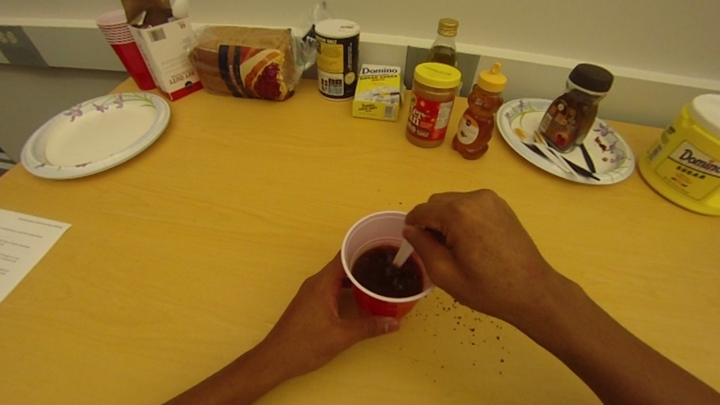hand: (397, 187, 553, 310), (278, 239, 402, 357)
